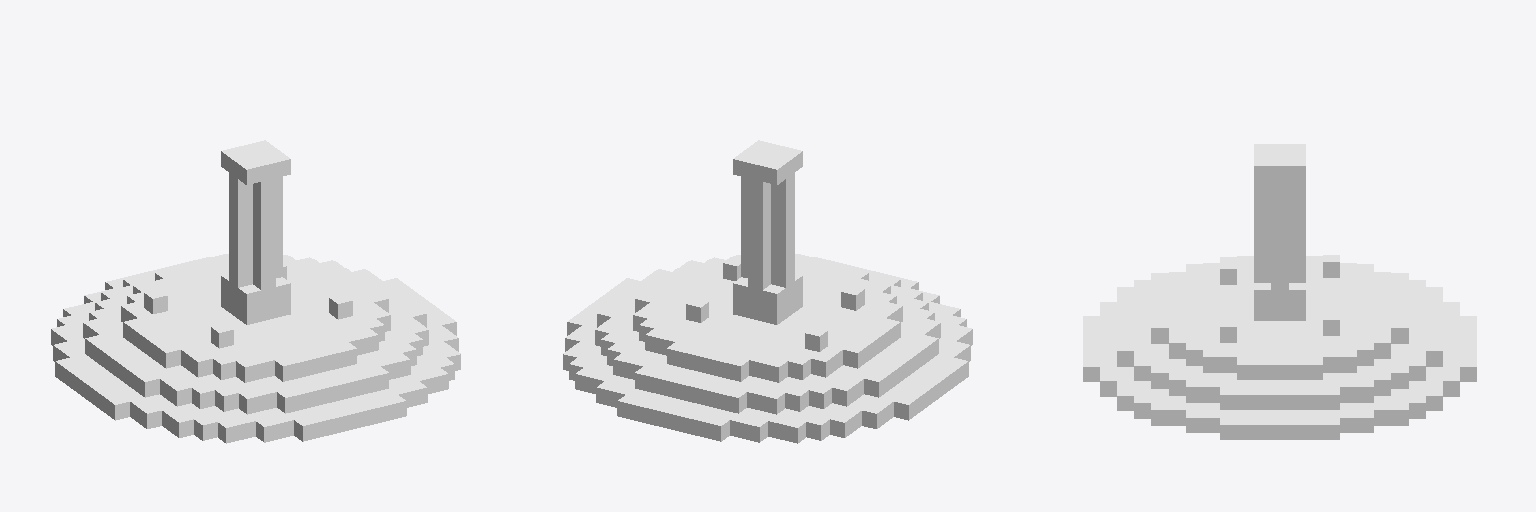
Rendered from turret_base.obj.
The picture shows the model from 3 angles: view 1: azimuth 30°, elevation 25°; view 2: azimuth 150°, elevation 25°; view 3: azimuth 270°, elevation 25°; orthographic projection.
Visible parts, largest first — view 1: object 1; view 2: object 1; view 3: object 1.
Boxes of the visible parts, x1=… form: object 1: x1=51, y1=140, x2=460, y2=443; object 1: x1=563, y1=140, x2=972, y2=443; object 1: x1=1083, y1=144, x2=1476, y2=439.
Size of the model in its own units: 2.3 by 1.3 by 2.3.